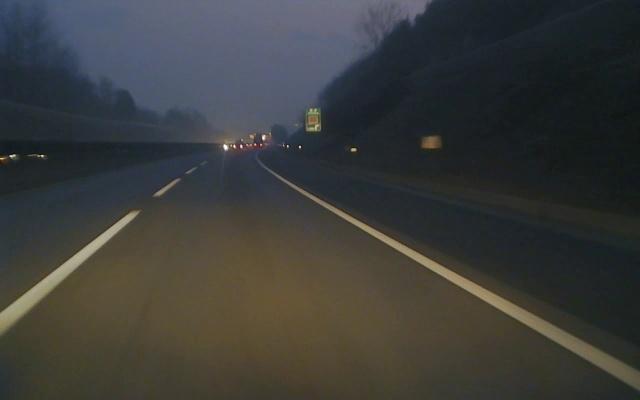lane: (282, 179, 640, 393), (0, 175, 180, 336)
